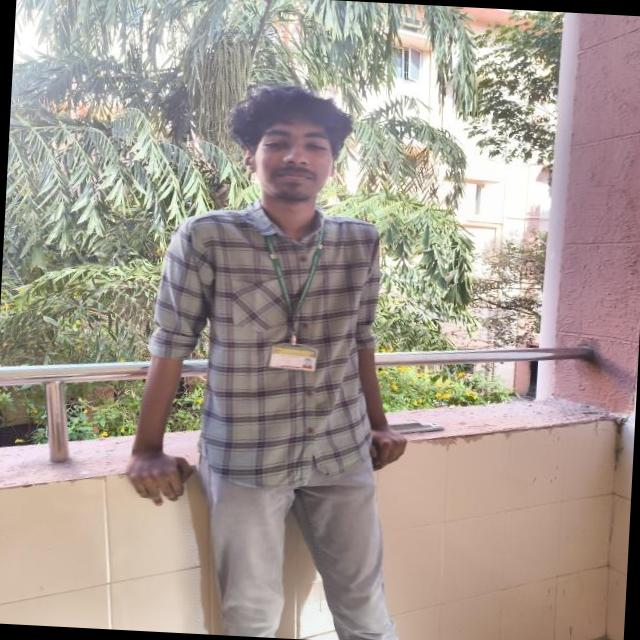id_card: (264, 214, 324, 376)
